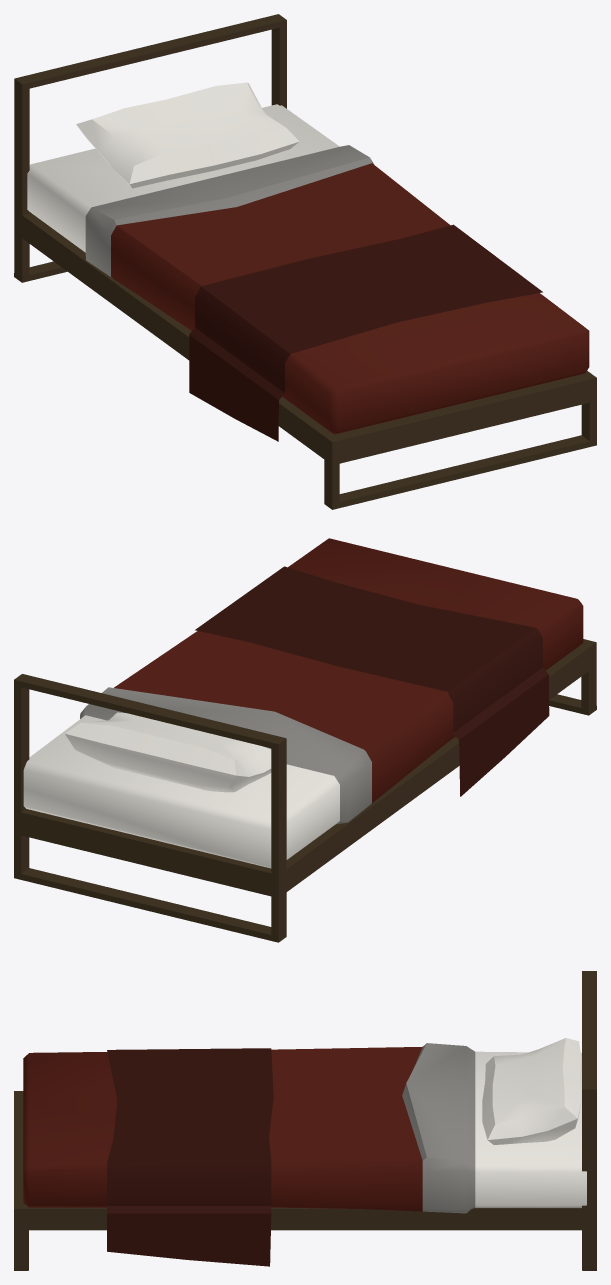
File: q-bed-single.glb
3 renders of one model, top to bottom at view 1: azimuth 30°, elevation 25°; view 2: azimuth 150°, elevation 25°; view 3: azimuth 270°, elevation 25°, orthographic. The views are drawn at different scales.
Visible parts, largest first — view 1: Bed_Single; view 2: Bed_Single; view 3: Bed_Single.
Part boxes in pixels (x1=…): Bed_Single: x1=14, y1=14, x2=596, y2=509; Bed_Single: x1=14, y1=538, x2=596, y2=942; Bed_Single: x1=14, y1=971, x2=596, y2=1270.
Size of the model in its own units: 1.98 by 1.35 by 3.94.
